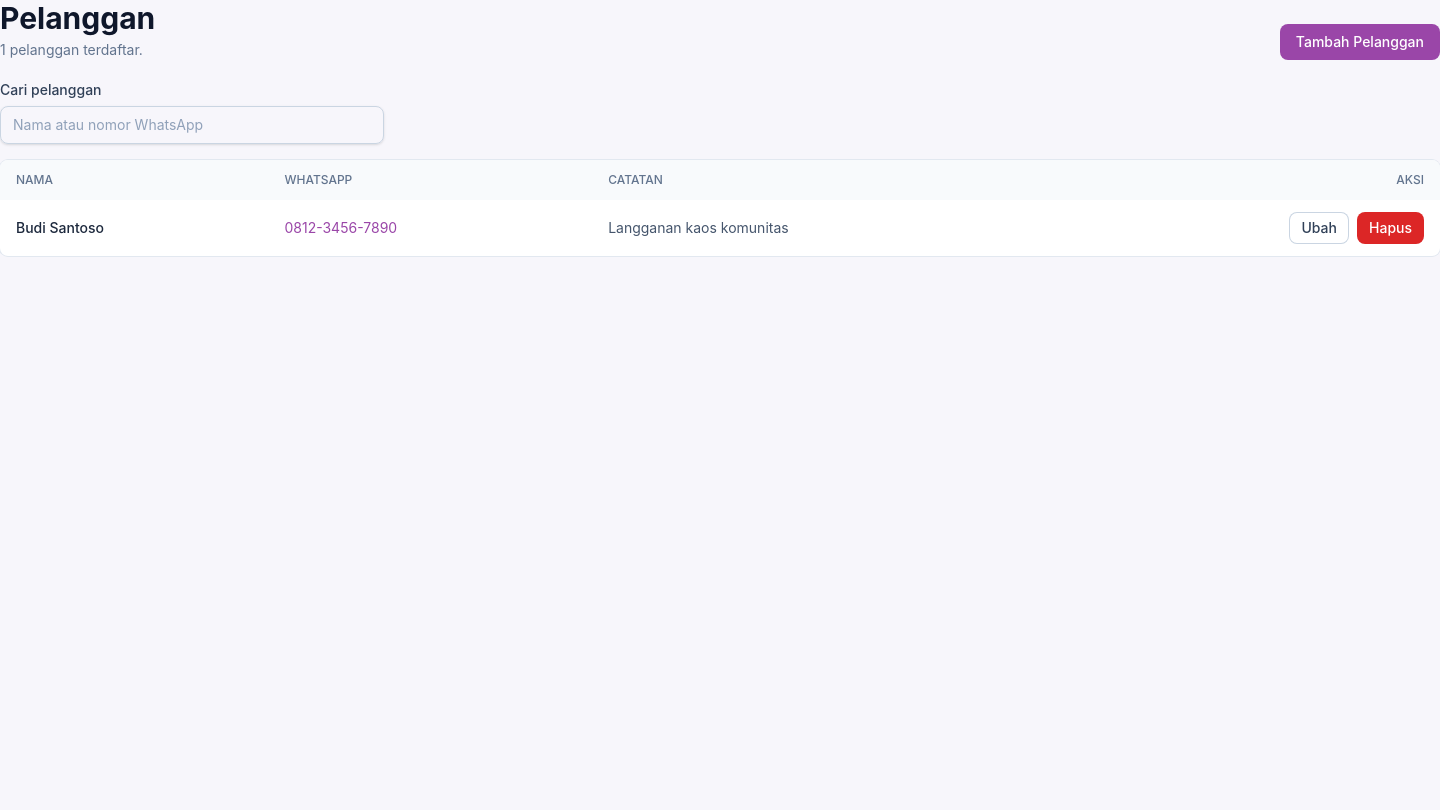
Test: CustomerListPage — tambah pelanggan › menolak nomor tidak valid tanpa memanggil API
expect the text "Budi Santoso" is shown: met, box [0,200,268,256]
Step 1. Click the button "Tambah Pelanggan" → click(1360, 42), box [1280,24,1439,60]
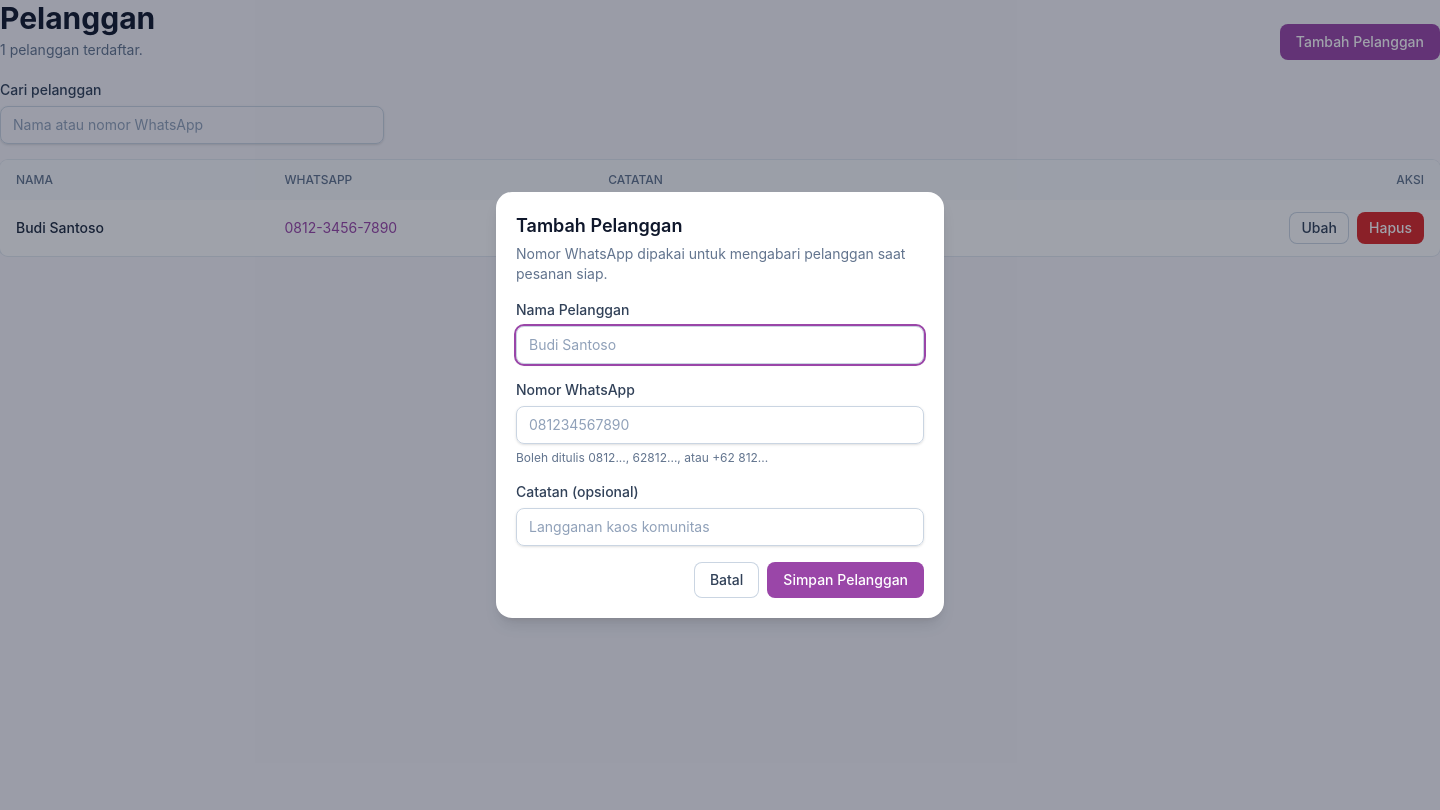
expect the field labelled "Nama Pelanggan" is shown: met
Step 2. Type "Dewi Lestari" into the field labelled "Nama Pelanggan" → (720, 345), box [516,326,924,364]
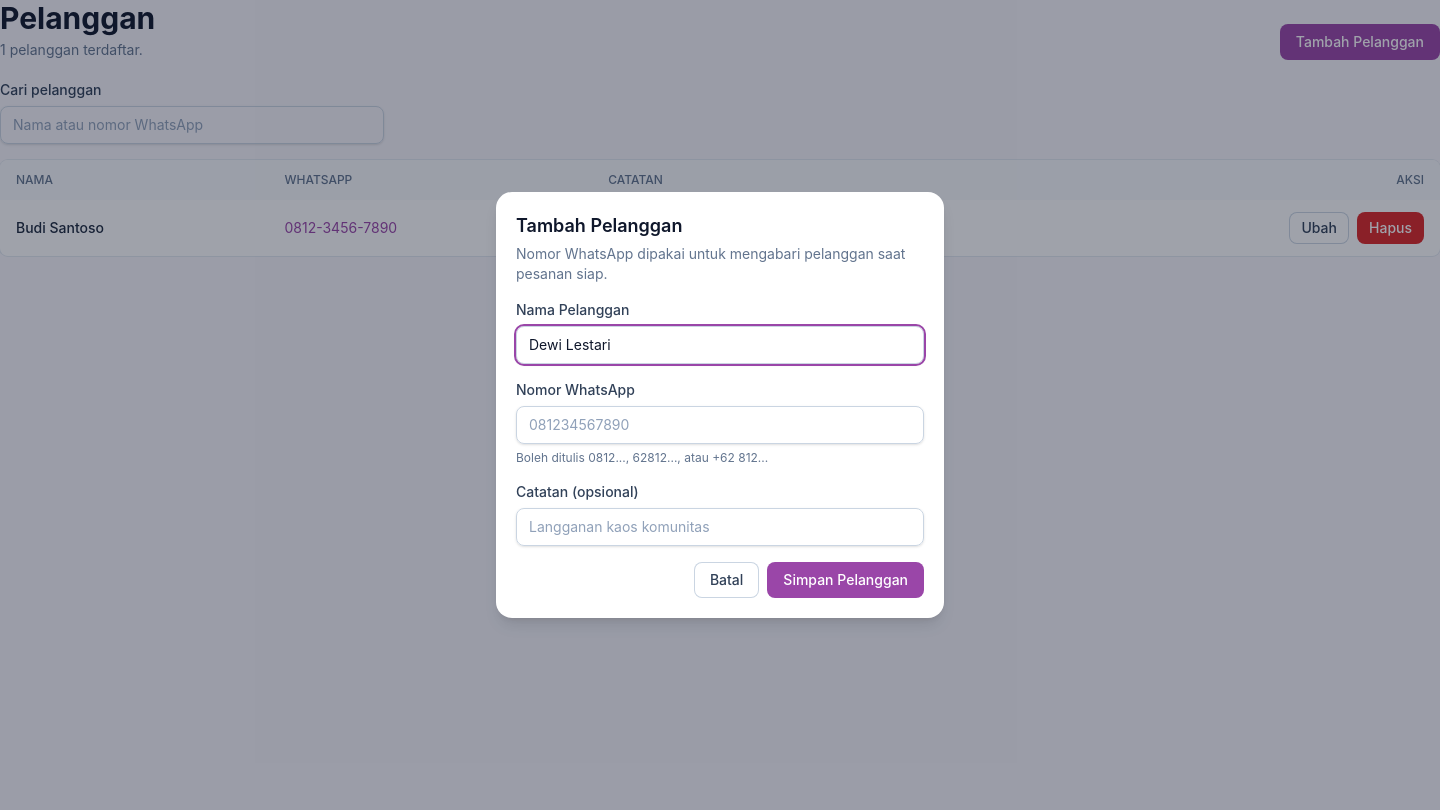
Step 3. Type "12345" into the field labelled "Nomor WhatsApp" → (720, 425), box [516,406,924,444]
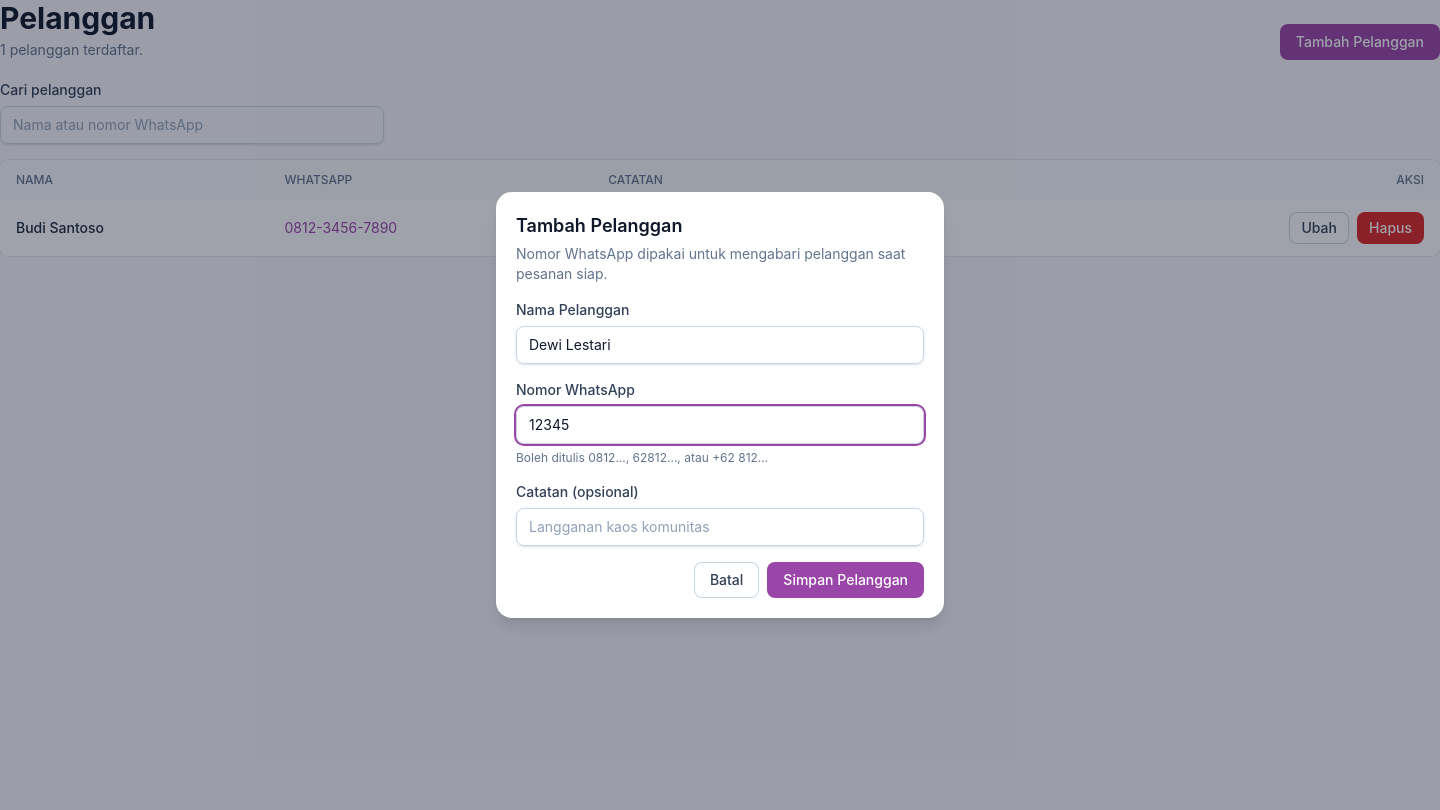
Step 4. Click the button "Simpan Pelanggan" → click(846, 580), box [767,562,924,598]
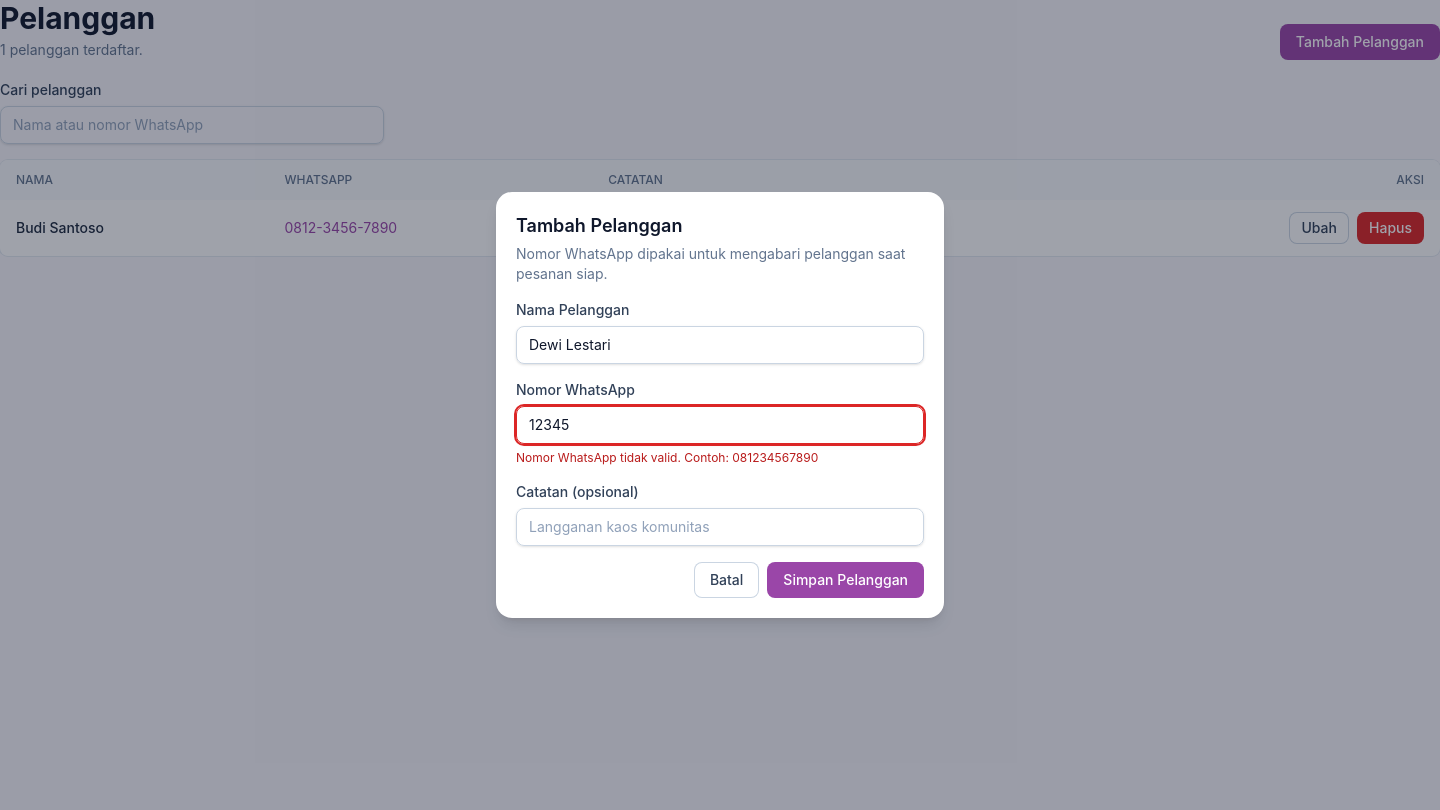
expect the text "Nomor WhatsApp tidak valid. Contoh: 081234567890" is shown: met, box [516,450,818,465]
